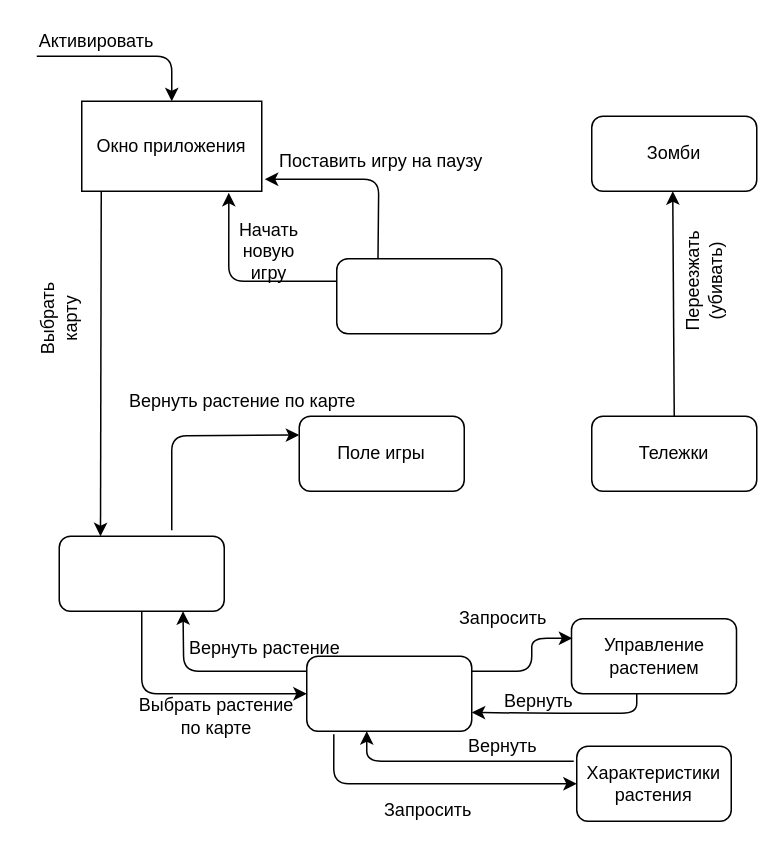
This 783x851 diagram has some shape labels left out. Here are the shapes that lost their labels. From the top down, the centre of each, then its label:
At pixel 418 295: "Кнопка паузы".
At pixel 141 573: "Карты растений".
At pixel 388 693: "Растения".
